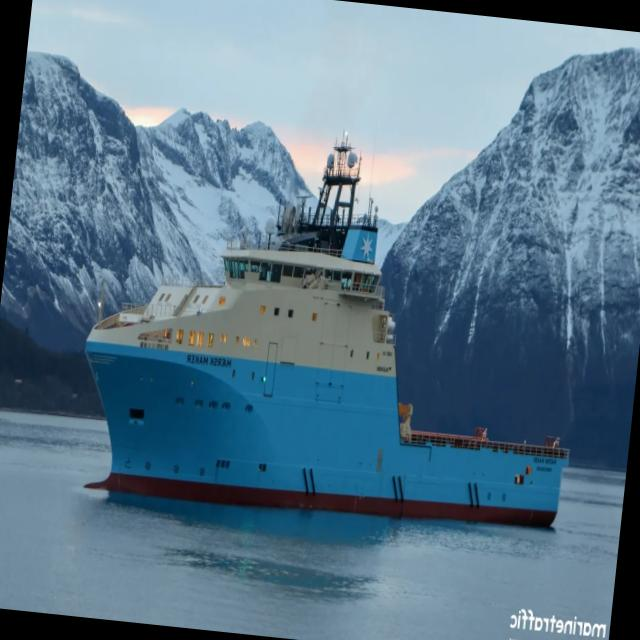Offshore: (84, 142, 568, 525)
